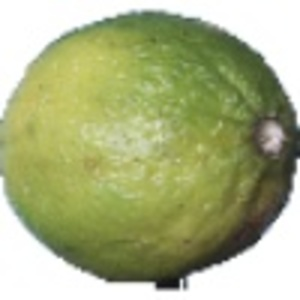limão: (1, 9, 300, 288)
